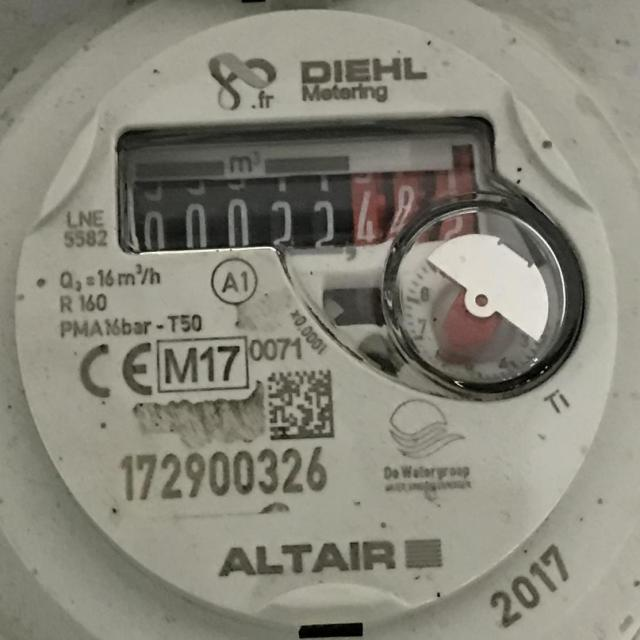gaz_meter: (13, 9, 618, 634)
indication: (122, 167, 480, 253)
